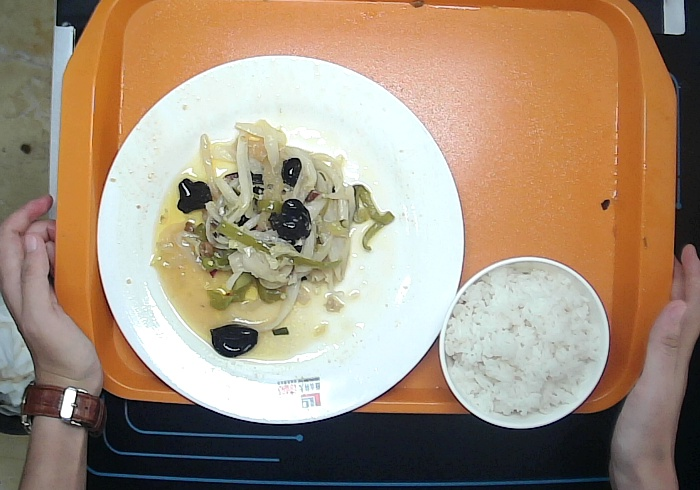ZNLD-Da_Yuan_Pan: (92, 48, 469, 427)
ZNLD-Fan_Wan: (437, 255, 608, 433)
